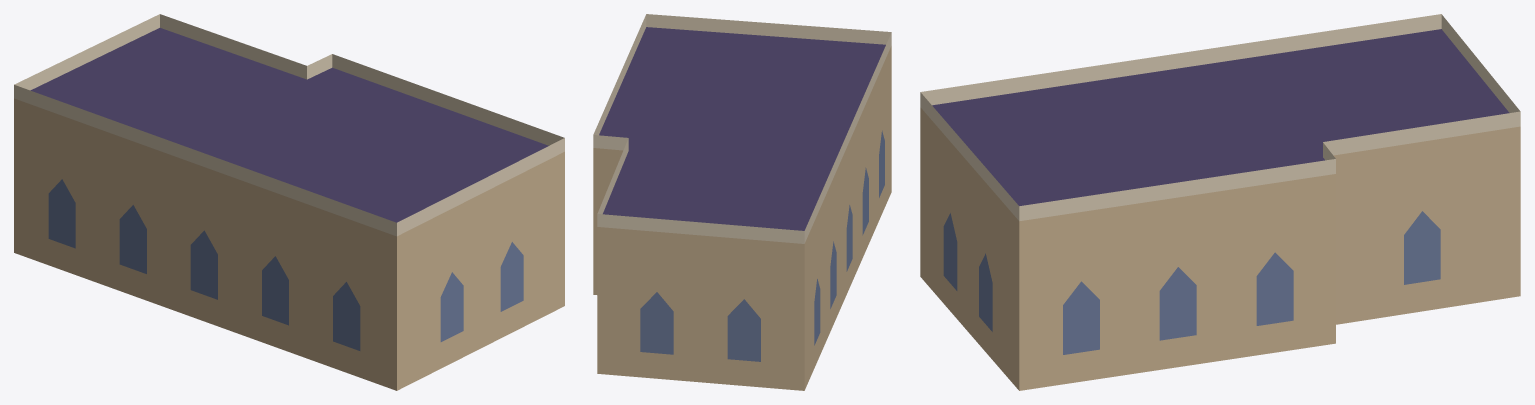
The model's file is b-003-benson-house-day.glb.
3 renders of one model, left to right at view 1: azimuth 30°, elevation 25°; view 2: azimuth 150°, elevation 25°; view 3: azimuth 270°, elevation 25°, orthographic. The views are drawn at different scales.
Parts seen in each view (by area): view 1: campus/b-003-benson-house-day-0; view 2: campus/b-003-benson-house-day-0; view 3: campus/b-003-benson-house-day-0.
Part boxes in pixels (x1,y1,x2,y2): campus/b-003-benson-house-day-0: [14, 14, 564, 390]; campus/b-003-benson-house-day-0: [593, 14, 891, 390]; campus/b-003-benson-house-day-0: [920, 14, 1520, 390].
Size of the model in its own units: 15.06 by 6.75 by 19.87.
